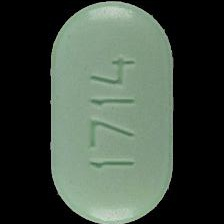63187-745: (0, 0, 224, 224)
